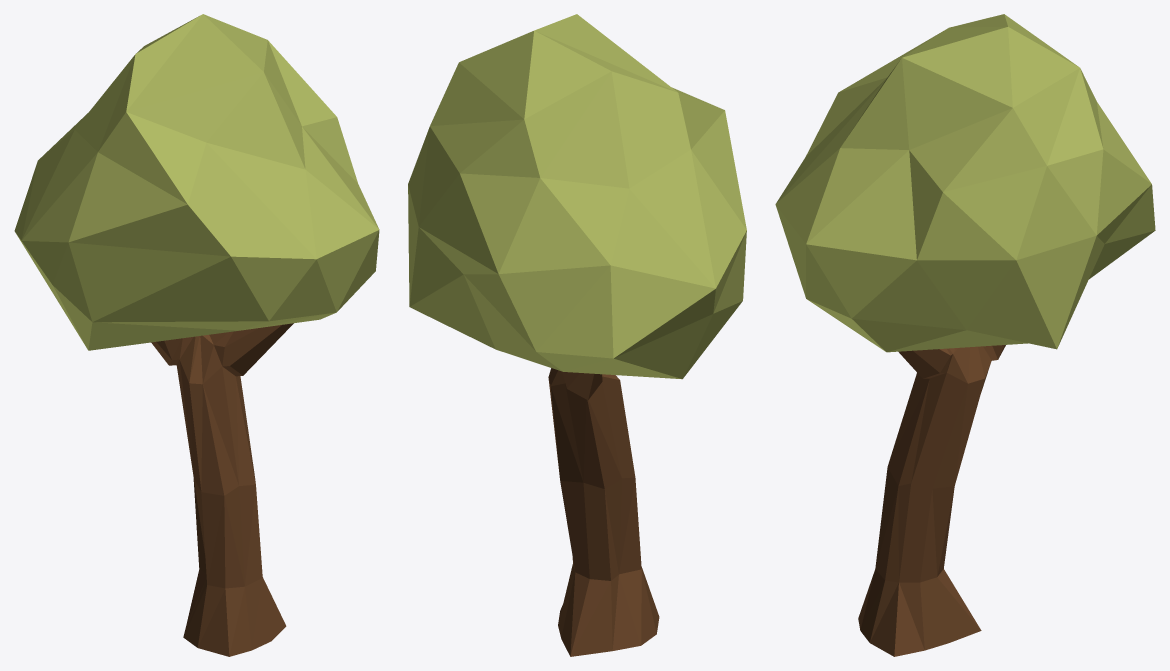
File: baum3.fbx
The picture shows the model from 3 angles, left to right: view 1: azimuth 30°, elevation 25°; view 2: azimuth 150°, elevation 25°; view 3: azimuth 270°, elevation 25°; orthographic projection. The views are drawn at different scales.
Visible parts, largest first — view 1: baum3_baumkrone1, baum3; view 2: baum3_baumkrone1, baum3; view 3: baum3_baumkrone1, baum3.
Part boxes in pixels (x1,y1,x2,y2): baum3_baumkrone1: (14, 14, 379, 350); baum3: (151, 323, 293, 656); baum3_baumkrone1: (408, 14, 746, 379); baum3: (548, 368, 659, 656); baum3_baumkrone1: (775, 14, 1155, 352); baum3: (858, 345, 1005, 656).
Size of the model in its own units: 218 by 422 by 236.
